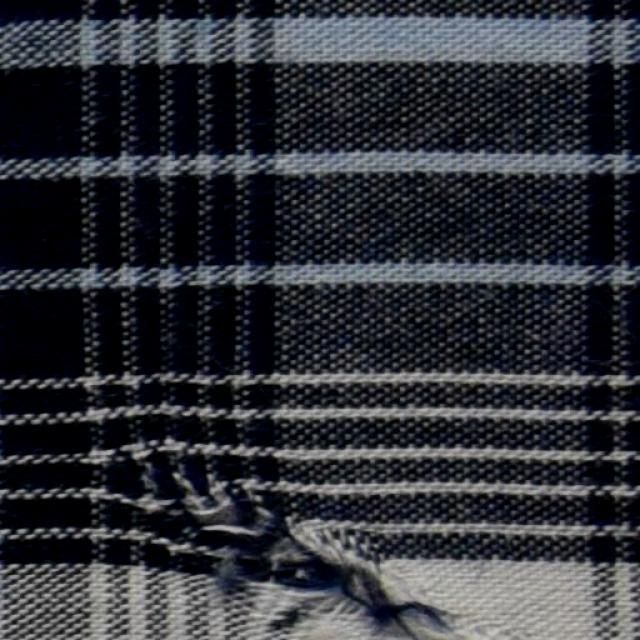Snag: (149, 474, 456, 639)
